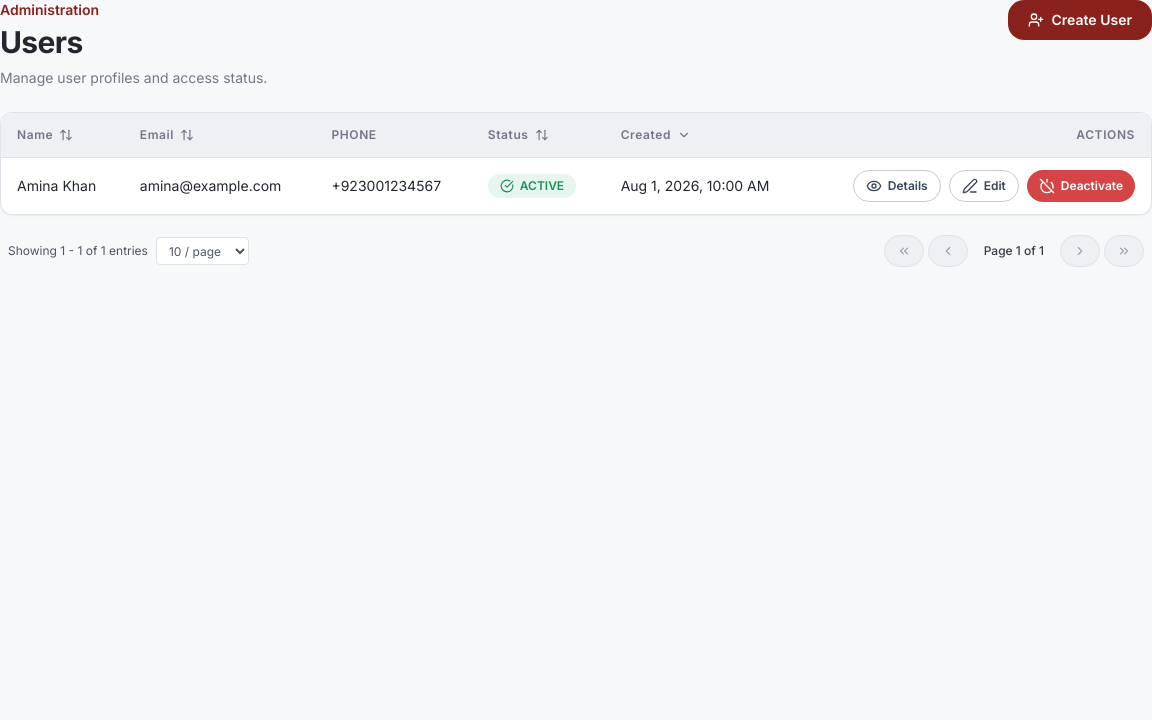
Test: UsersPage › confirms user deactivation
Click the button "Deactivate".
click(1081, 186)  # box [1027,170,1135,202]
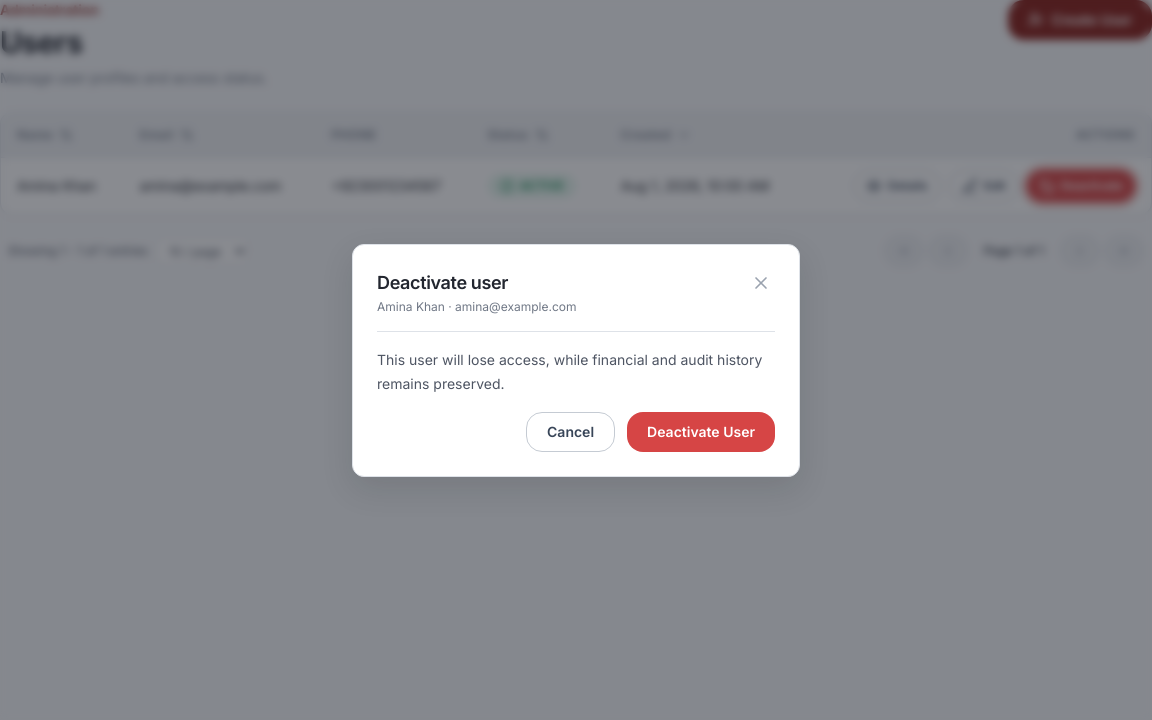
Click the button "Deactivate User".
click(701, 432)  # box [627,412,775,452]
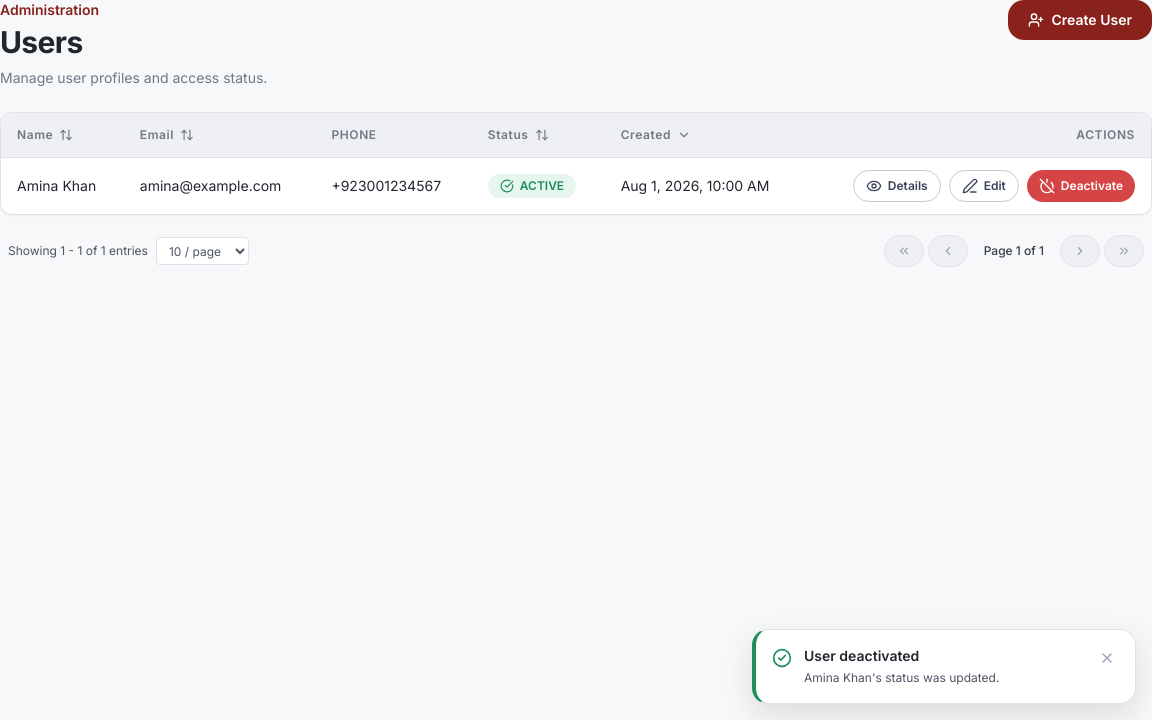
Now the heading "User deactivated" is shown, box [804,646,919,664]
